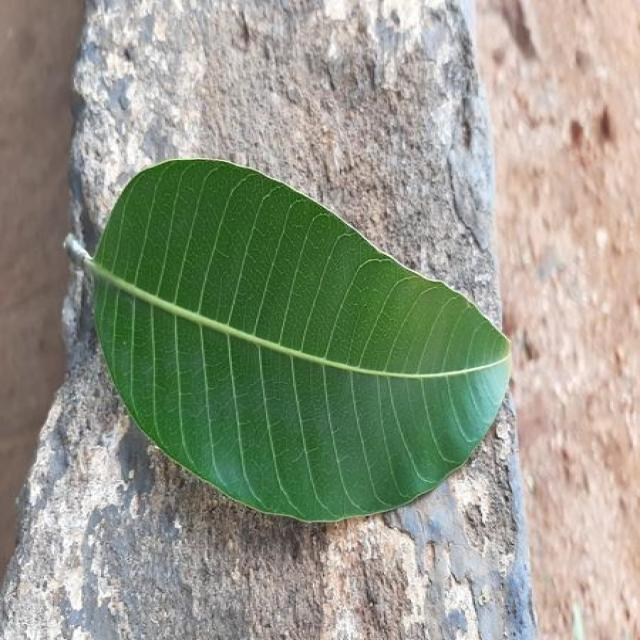mango: (75, 161, 508, 521)
